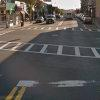Crosswalk: (7, 31, 100, 71)
